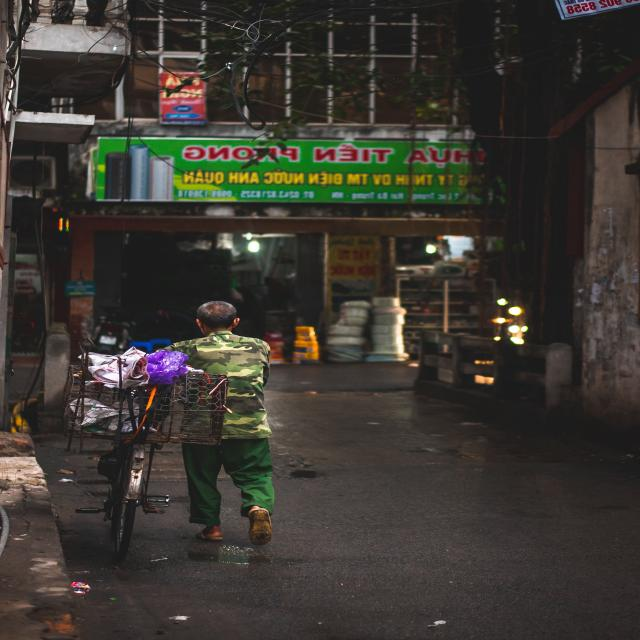adult: (145, 298, 279, 549)
